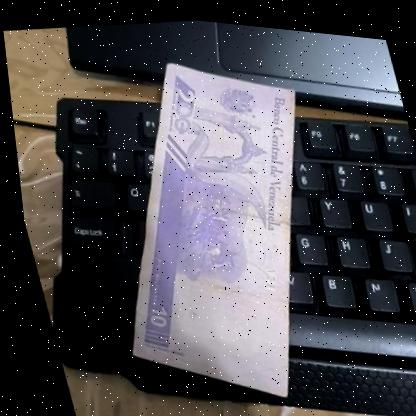ten-back-vef: (50, 30, 370, 416)
